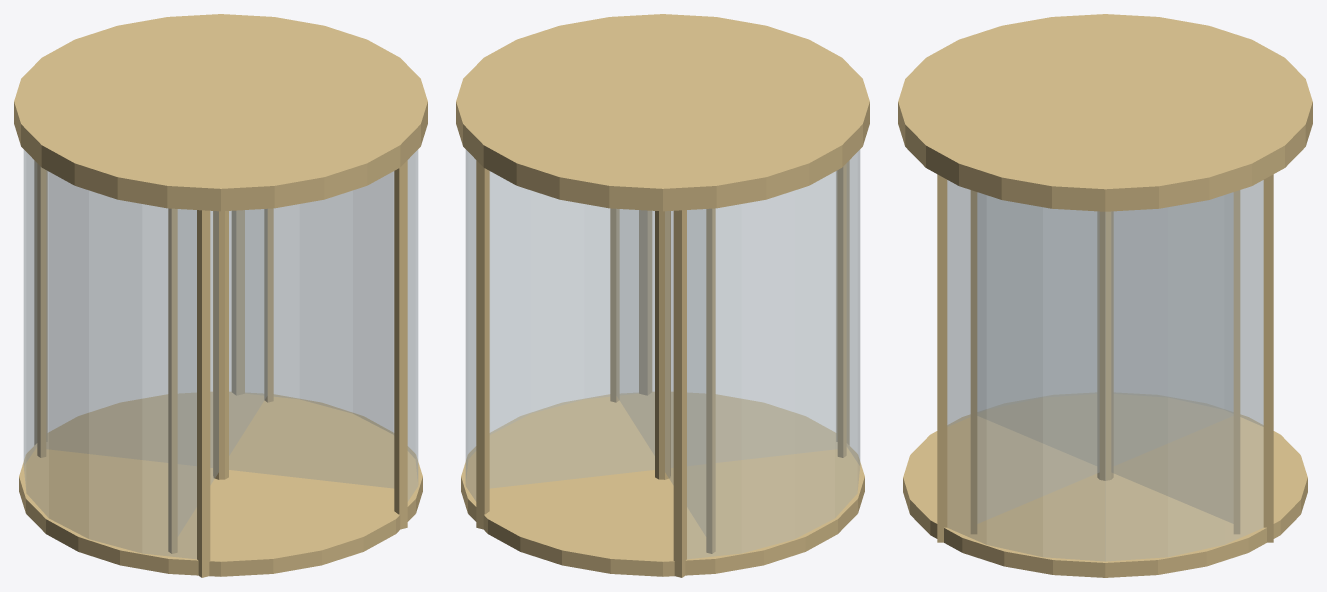
The model's file is door_revolving_2.4.glb.
3 renders of one model, left to right at view 1: azimuth 30°, elevation 25°; view 2: azimuth 150°, elevation 25°; view 3: azimuth 270°, elevation 25°, orthographic.
Parts seen in each view (by area): view 1: door_revolving; view 2: door_revolving; view 3: door_revolving.
Boxes of the visible parts, x1,y1,x2,y2 form: door_revolving: (14,14,427,577); door_revolving: (456,14,869,577); door_revolving: (898,14,1312,577).
Bounding box in the file's own units: 2.5 × 2.6 × 2.5.
